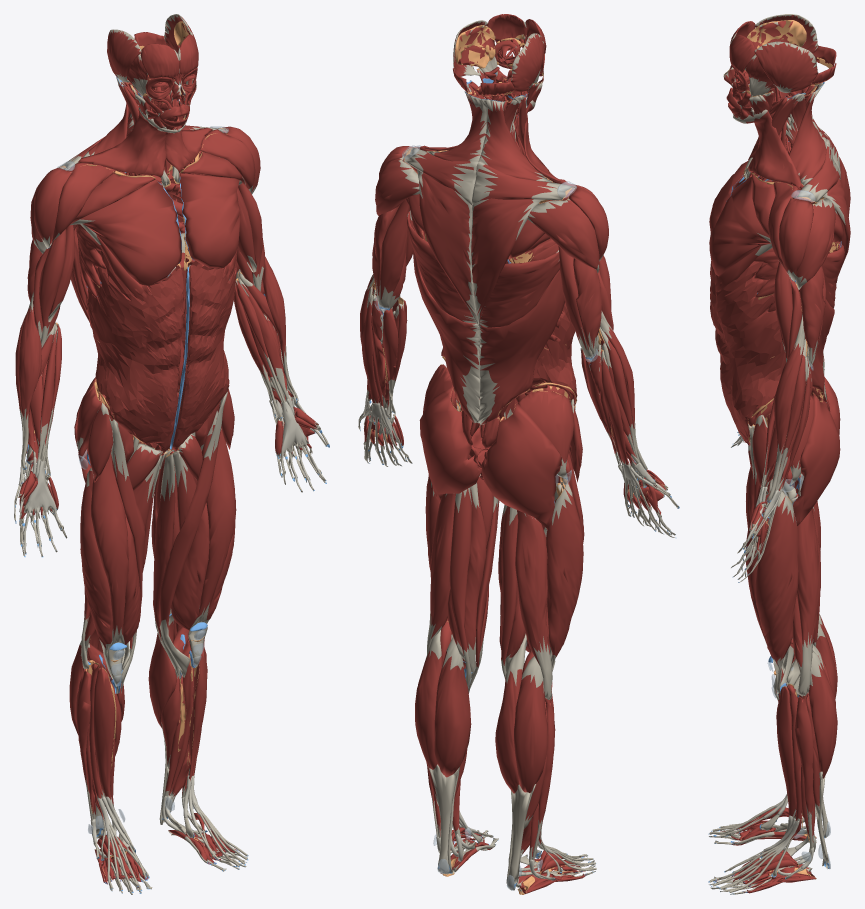
Rendered from adult_male.muscular.LOD2.glb.
The picture shows the model from 3 angles, left to right: view 1: azimuth 30°, elevation 25°; view 2: azimuth 150°, elevation 25°; view 3: azimuth 270°, elevation 25°; orthographic projection.
Parts seen in each view (by area): view 1: ADULT.MALE.MUSCULAR.EXTERNAL_ABDOMINAL_OBLIQUE_MUSCLE.R, ADULT.MALE.MUSCULAR.STERNOCOSTAL_HEAD_OF_PECTORALIS_MAJOR_MU (×2), ADULT.MALE.MUSCULAR.EXTERNAL_ABDOMINAL_OBLIQUE_MUSCLE.L, ADULT.MALE.MUSCULAR.RECTUS_FEMORIS_MUSCLE.R, ADULT.MALE.MUSCULAR.RECTUS_FEMORIS_MUSCLE.L, ADULT.MALE.MUSCULAR.SARTORIUS_MUSCLE.L, ADULT.MALE.MUSCULAR.VASTUS_LATERALIS_MUSCLE.R, ADULT.MALE.MUSCULAR.PLATYSMA.R, ADULT.MALE.MUSCULAR.VASTUS_MEDIALIS_MUSCLE.L, ADULT.MALE.MUSCULAR.GRACILIS_MUSCLE.L, ADULT.MALE.MUSCULAR.CLAVICULAR_HEAD_OF_PECTORALIS_MAJOR_MUSC (×2), ADULT.MALE.MUSCULAR.SARTORIUS_MUSCLE.R (+44 smaller); view 2: ADULT.MALE.MUSCULAR.LATISSIMUS_DORSI_MUSCLE.R, ADULT.MALE.MUSCULAR.GLUTEUS_MAXIMUS_MUSCLE.R, ADULT.MALE.MUSCULAR.LATISSIMUS_DORSI_MUSCLE.L, ADULT.MALE.MUSCULAR.DESCENDING_PART_OF_TRAPEZIUS_MUSCLE.L, ADULT.MALE.MUSCULAR.VASTUS_LATERALIS_MUSCLE.R, ADULT.MALE.MUSCULAR.LONG_HEAD_OF_BICEPS_FEMORIS.R, ADULT.MALE.MUSCULAR.DESCENDING_PART_OF_TRAPEZIUS_MUSCLE.R, ADULT.MALE.MUSCULAR.GLUTEUS_MAXIMUS_MUSCLE.L, ADULT.MALE.MUSCULAR.MEDIAL_HEAD_OF_GASTROCNEMIUS.L, ADULT.MALE.MUSCULAR.LATERAL_HEAD_OF_GASTROCNEMIUS.R, ADULT.MALE.MUSCULAR.SCAPULAR_SPINAL_PART_OF_DELTOID_MUSCLE.R, ADULT.MALE.MUSCULAR.SEMITENDINOSUS_MUSCLE.L (+33 smaller); view 3: ADULT.MALE.MUSCULAR.EXTERNAL_ABDOMINAL_OBLIQUE_MUSCLE.L, ADULT.MALE.MUSCULAR.VASTUS_LATERALIS_MUSCLE.L, ADULT.MALE.MUSCULAR.STERNOCOSTAL_HEAD_OF_PECTORALIS_MAJOR_MU (×2), ADULT.MALE.MUSCULAR.GLUTEUS_MAXIMUS_MUSCLE.L, ADULT.MALE.MUSCULAR.LONG_HEAD_OF_BICEPS_FEMORIS.L, ADULT.MALE.MUSCULAR.TEMPOROPARIETALIS_MUSCLE.L, ADULT.MALE.MUSCULAR.LATERAL_HEAD_OF_GASTROCNEMIUS.L, ADULT.MALE.MUSCULAR.PLATYSMA.L, ADULT.MALE.MUSCULAR.BRACHIORADIALIS_MUSCLE.L, ADULT.MALE.MUSCULAR.ACROMIAL_PART_OF_DELTOID_MUSCLE.L, ADULT.MALE.MUSCULAR.SCAPULAR_SPINAL_PART_OF_DELTOID_MUSCLE.L, ADULT.MALE.MUSCULAR.ASCENDING_PART_OF_TRAPEZIUS_MUSCLE.L (+42 smaller).
Boxes of the visible parts, x1,y1,x2,y2 form: ADULT.MALE.MUSCULAR.EXTERNAL_ABDOMINAL_OBLIQUE_MUSCLE.R: [87, 251, 183, 444]; ADULT.MALE.MUSCULAR.STERNOCOSTAL_HEAD_OF_PECTORALIS_MAJOR_MU (×2): [70, 173, 242, 285]; ADULT.MALE.MUSCULAR.EXTERNAL_ABDOMINAL_OBLIQUE_MUSCLE.L: [178, 255, 236, 441]; ADULT.MALE.MUSCULAR.RECTUS_FEMORIS_MUSCLE.R: [91, 431, 128, 686]; ADULT.MALE.MUSCULAR.RECTUS_FEMORIS_MUSCLE.L: [188, 410, 236, 667]; ADULT.MALE.MUSCULAR.SARTORIUS_MUSCLE.L: [159, 392, 227, 677]; ADULT.MALE.MUSCULAR.VASTUS_LATERALIS_MUSCLE.R: [80, 468, 112, 678]; ADULT.MALE.MUSCULAR.PLATYSMA.R: [78, 107, 177, 177]; ADULT.MALE.MUSCULAR.VASTUS_MEDIALIS_MUSCLE.L: [171, 503, 209, 652]; ADULT.MALE.MUSCULAR.GRACILIS_MUSCLE.L: [153, 453, 180, 678]; ADULT.MALE.MUSCULAR.CLAVICULAR_HEAD_OF_PECTORALIS_MAJOR_MUSC (×2): [70, 151, 245, 224]; ADULT.MALE.MUSCULAR.SARTORIUS_MUSCLE.R: [109, 418, 144, 692]; ADULT.MALE.MUSCULAR.LATISSIMUS_DORSI_MUSCLE.R: [478, 250, 564, 424]; ADULT.MALE.MUSCULAR.GLUTEUS_MAXIMUS_MUSCLE.R: [481, 402, 561, 529]; ADULT.MALE.MUSCULAR.LATISSIMUS_DORSI_MUSCLE.L: [407, 210, 480, 422]; ADULT.MALE.MUSCULAR.DESCENDING_PART_OF_TRAPEZIUS_MUSCLE.L: [417, 169, 478, 325]; ADULT.MALE.MUSCULAR.VASTUS_LATERALIS_MUSCLE.R: [546, 479, 583, 668]; ADULT.MALE.MUSCULAR.LONG_HEAD_OF_BICEPS_FEMORIS.R: [515, 510, 552, 699]; ADULT.MALE.MUSCULAR.DESCENDING_PART_OF_TRAPEZIUS_MUSCLE.R: [471, 198, 545, 326]; ADULT.MALE.MUSCULAR.GLUTEUS_MAXIMUS_MUSCLE.L: [419, 387, 481, 501]; ADULT.MALE.MUSCULAR.MEDIAL_HEAD_OF_GASTROCNEMIUS.L: [434, 637, 471, 777]; ADULT.MALE.MUSCULAR.LATERAL_HEAD_OF_GASTROCNEMIUS.R: [513, 656, 547, 792]; ADULT.MALE.MUSCULAR.SCAPULAR_SPINAL_PART_OF_DELTOID_MUSCLE.R: [527, 198, 599, 272]; ADULT.MALE.MUSCULAR.SEMITENDINOSUS_MUSCLE.L: [449, 487, 472, 686]; ADULT.MALE.MUSCULAR.EXTERNAL_ABDOMINAL_OBLIQUE_MUSCLE.L: [710, 261, 785, 441]; ADULT.MALE.MUSCULAR.VASTUS_LATERALIS_MUSCLE.L: [755, 491, 798, 693]; ADULT.MALE.MUSCULAR.STERNOCOSTAL_HEAD_OF_PECTORALIS_MAJOR_MU (×2): [709, 161, 770, 275]; ADULT.MALE.MUSCULAR.GLUTEUS_MAXIMUS_MUSCLE.L: [793, 392, 840, 525]; ADULT.MALE.MUSCULAR.LONG_HEAD_OF_BICEPS_FEMORIS.L: [797, 495, 820, 696]; ADULT.MALE.MUSCULAR.TEMPOROPARIETALIS_MUSCLE.L: [754, 41, 818, 92]; ADULT.MALE.MUSCULAR.LATERAL_HEAD_OF_GASTROCNEMIUS.L: [809, 650, 837, 778]; ADULT.MALE.MUSCULAR.PLATYSMA.L: [733, 109, 801, 188]; ADULT.MALE.MUSCULAR.BRACHIORADIALIS_MUSCLE.L: [767, 314, 804, 502]; ADULT.MALE.MUSCULAR.ACROMIAL_PART_OF_DELTOID_MUSCLE.L: [779, 198, 813, 281]; ADULT.MALE.MUSCULAR.SCAPULAR_SPINAL_PART_OF_DELTOID_MUSCLE.L: [795, 199, 835, 289]; ADULT.MALE.MUSCULAR.ASCENDING_PART_OF_TRAPEZIUS_MUSCLE.L: [788, 82, 826, 185].
Bounding box in the file's own units: 0.6605 × 1.67 × 0.2582.
